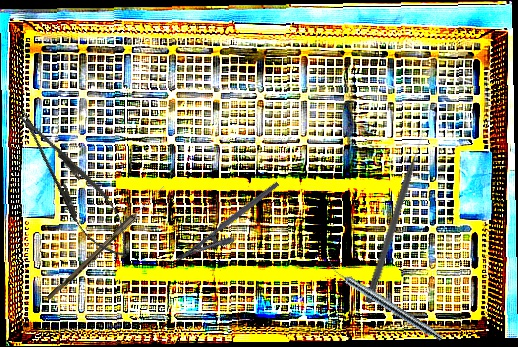Handpiece: (324, 260, 446, 344)
Needle Holder: (3, 99, 144, 269), (174, 181, 291, 276)
Pusher: (364, 133, 428, 305)
Surgical Spoon: (46, 183, 167, 303)
